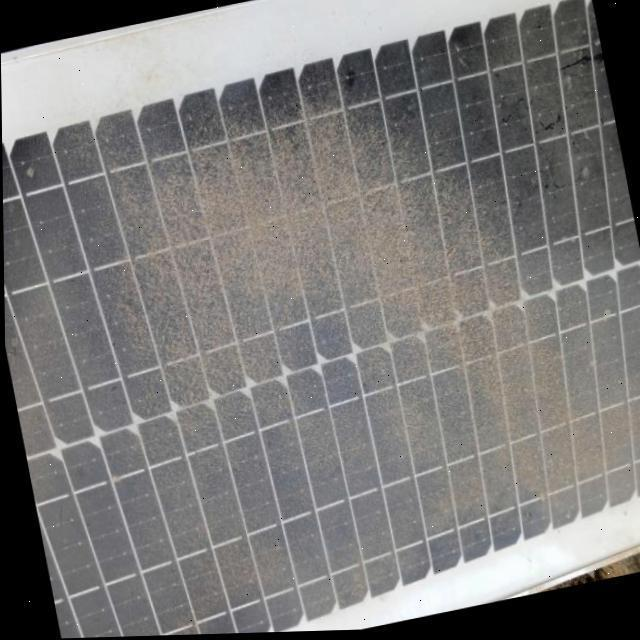Surface Contaminant: (1, 32, 583, 639)
